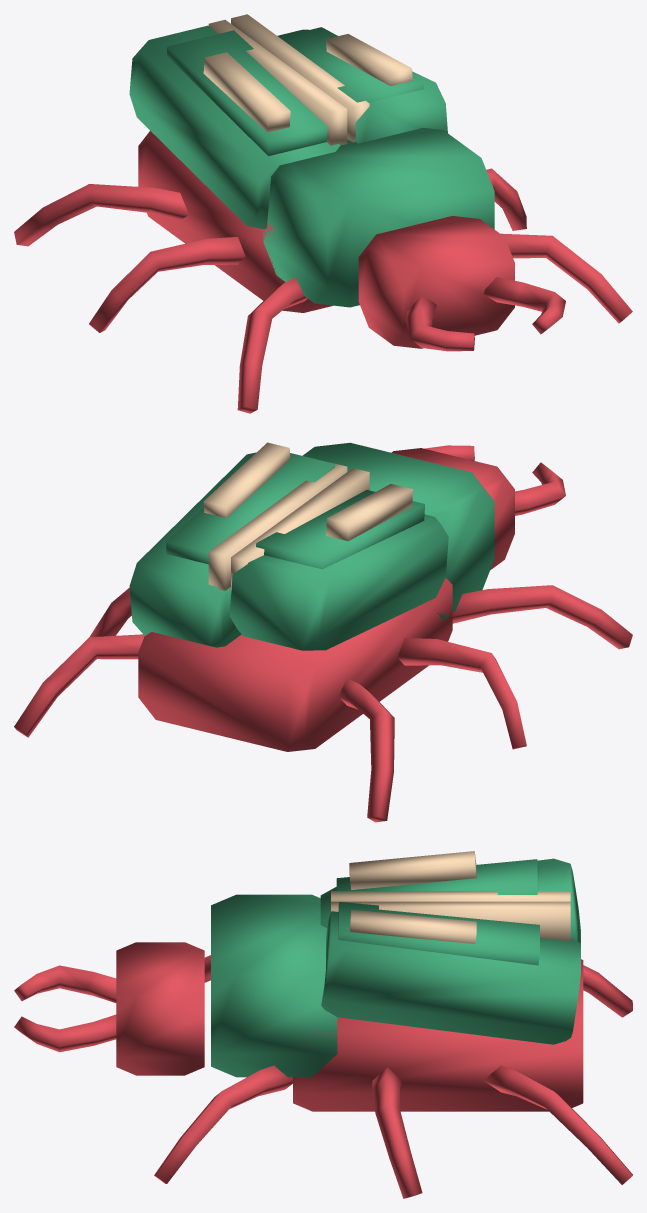
Rendered from beetle.glb.
The picture shows the model from 3 angles, top to bottom: view 1: azimuth 30°, elevation 25°; view 2: azimuth 150°, elevation 25°; view 3: azimuth 270°, elevation 25°; orthographic projection.
Parts seen in each view (by area): view 1: body, elytron-r, elytron-l; view 2: body, elytron-r, elytron-l; view 3: body, elytron-l, elytron-r.
Boxes of the visible parts, x1,y1,x2,y2 form: body: (14,127,632,413); elytron-r: (129,19,347,229); elytron-l: (231,14,447,143); body: (14,442,632,822); elytron-r: (229,468,448,650); elytron-l: (129,442,347,647); body: (14,894,632,1198); elytron-l: (321,901,580,1044); elytron-r: (320,851,580,942).
Size of the model in its own units: 0.0788 by 0.0376 by 0.0981.
